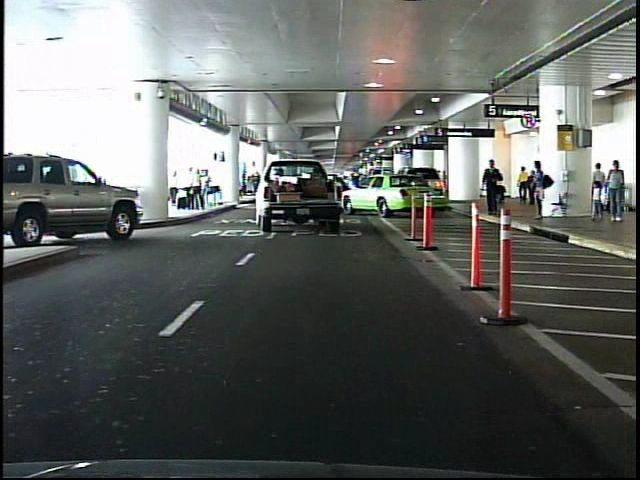person: (528, 157, 551, 223), (482, 156, 503, 217), (517, 166, 527, 203)
